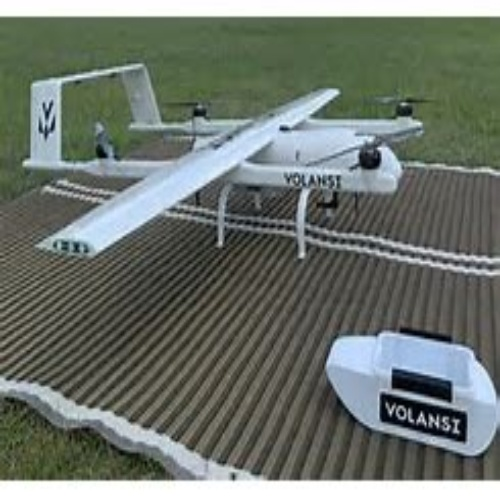uav721: (23, 62, 426, 262)
